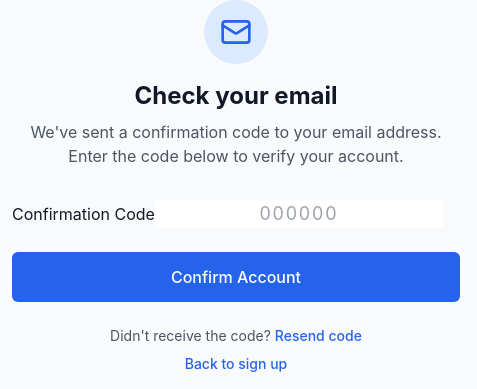
Test: ConfirmSignUpForm › limits confirmation code input to 6 characters
Step 1. Type "1234567890" into the field labelled "Confirmation Code" → (299, 214), box [155,200,443,228]
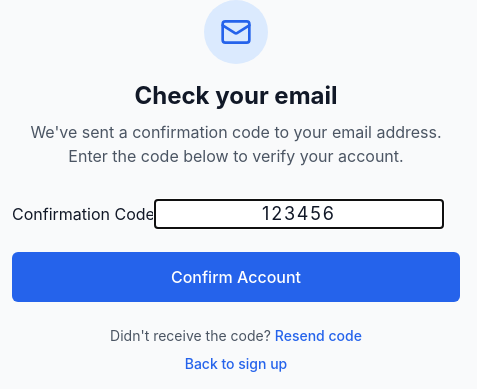
Result: the field labelled "Confirmation Code" holds "123456" at [155,200,443,228]
